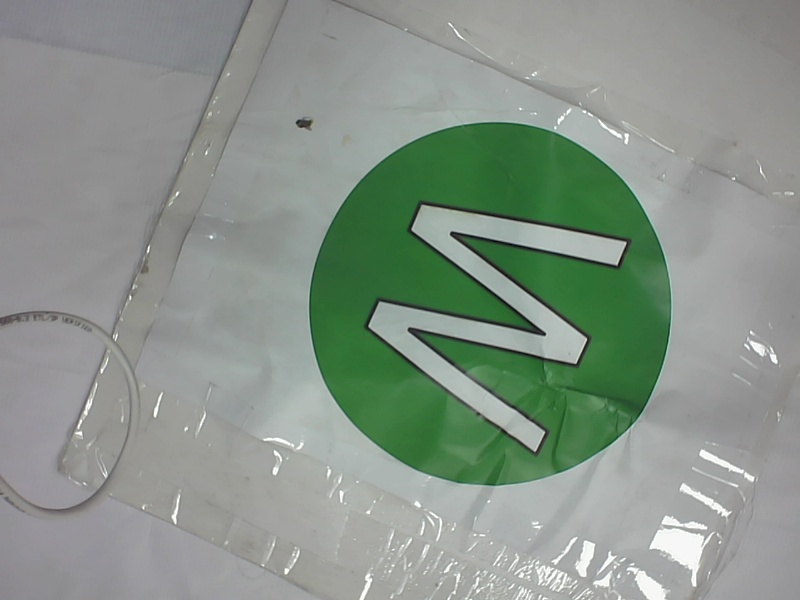areaB: (303, 120, 676, 495)
